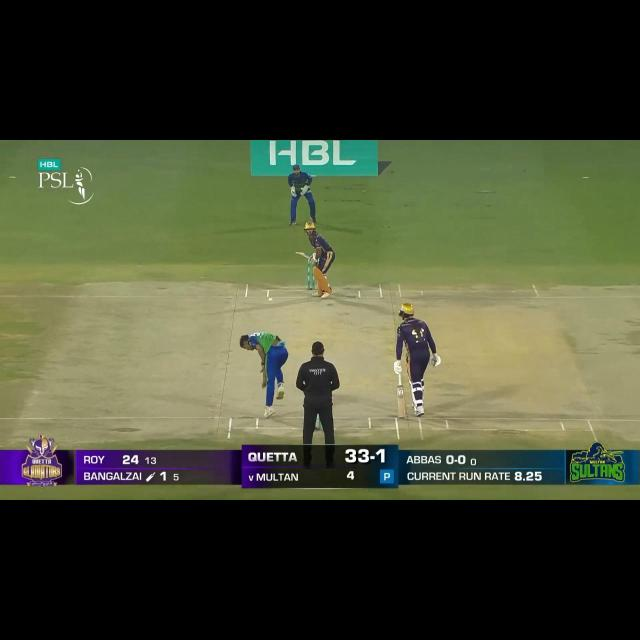bat: (394, 385, 410, 421), (294, 250, 312, 260)
toe: (397, 412, 408, 420), (294, 252, 300, 255)
